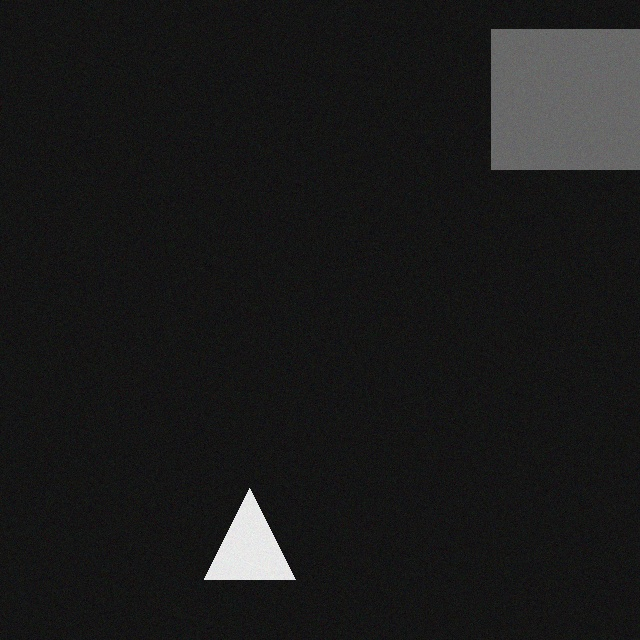square: (499, 42, 639, 182)
triangle: (212, 501, 303, 592)
